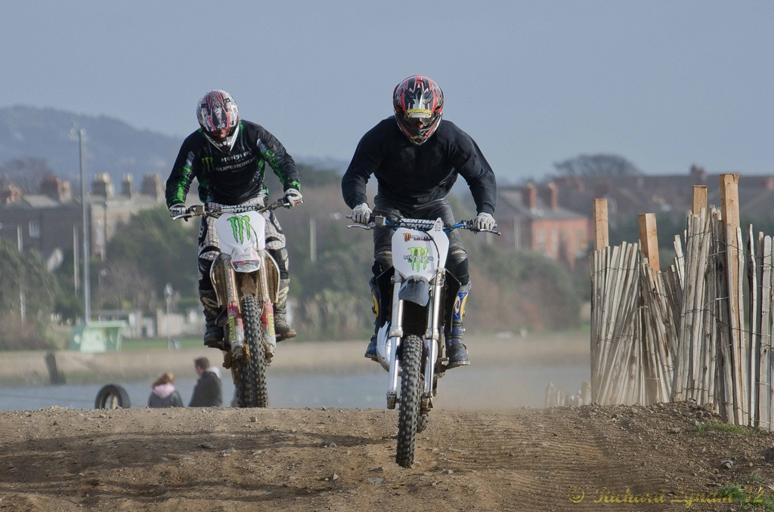non-vehicle: (344, 212, 501, 468), (170, 193, 303, 409)
